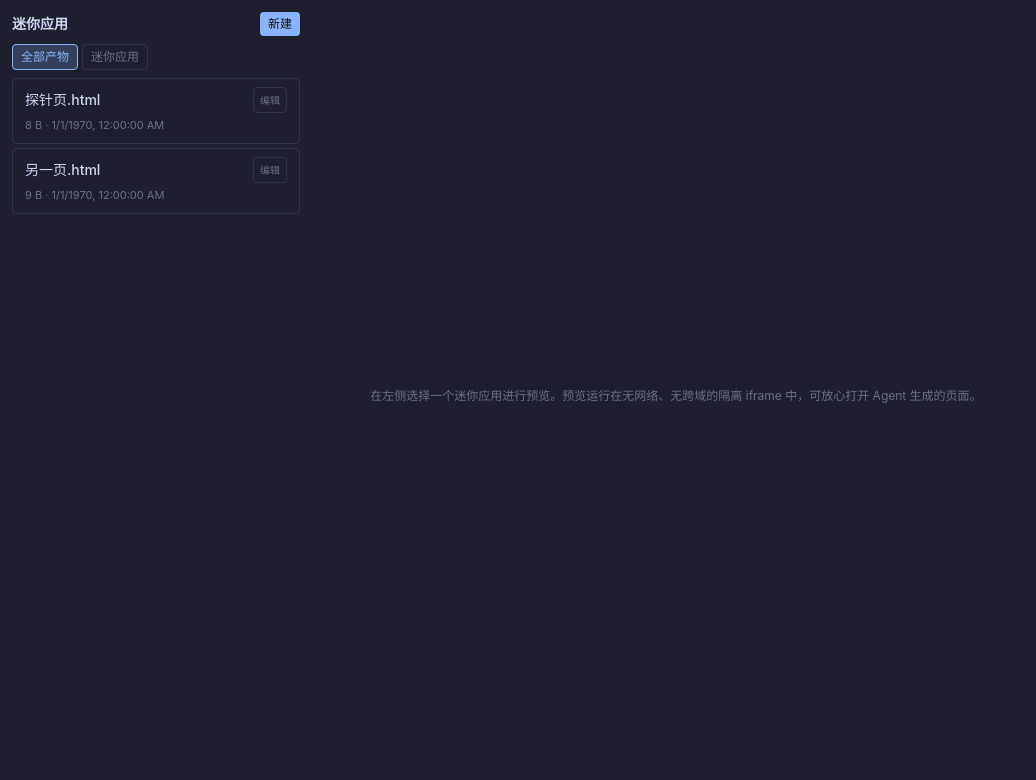
Scenario: ① 沙箱预览那一发：三种到货要分得开 › reject 面（通道真抛）⇒ 与 resolve 的失败对象同一张脸，且不留下未处理 rejection
Click the button "探针页.html".
click(135, 100)  # box top-left (25, 90), bottom-right (245, 110)
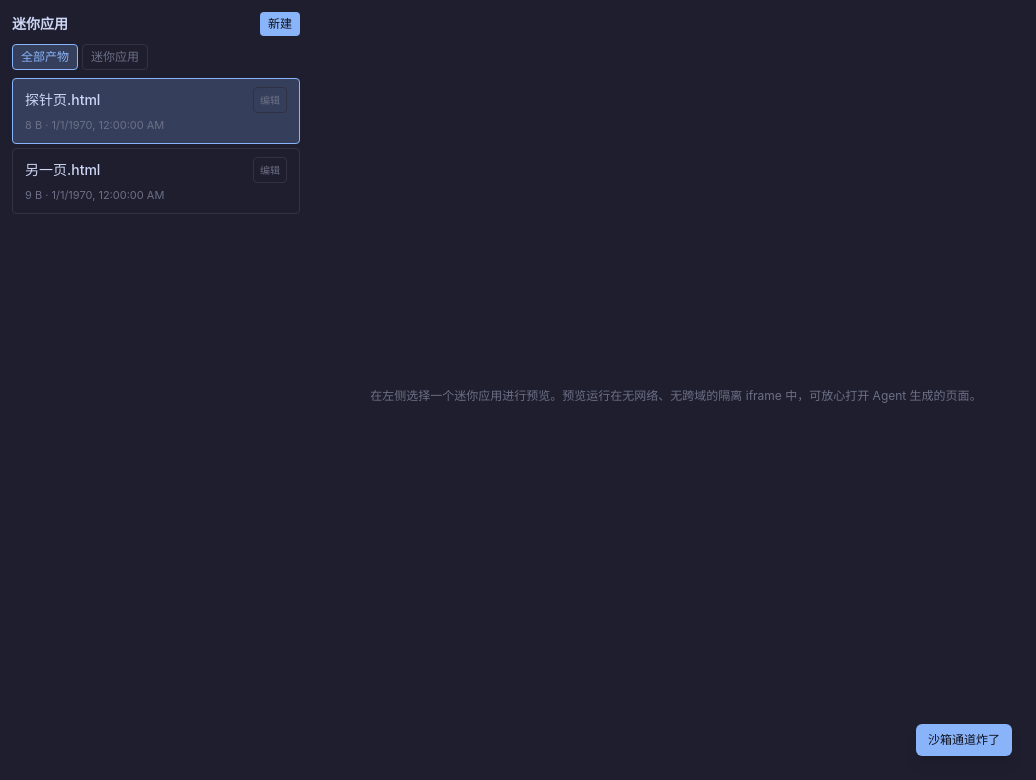
expect the button "另一页.html" is shown: met, box top-left (25, 160), bottom-right (245, 180)
expect the text "沙箱通道炸了" is shown: met, box top-left (916, 724), bottom-right (1012, 756)
